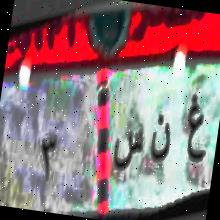3: (31, 123, 68, 201)
ghayn: (180, 86, 214, 171)
noon: (146, 113, 175, 176)
seen: (112, 114, 148, 184)
